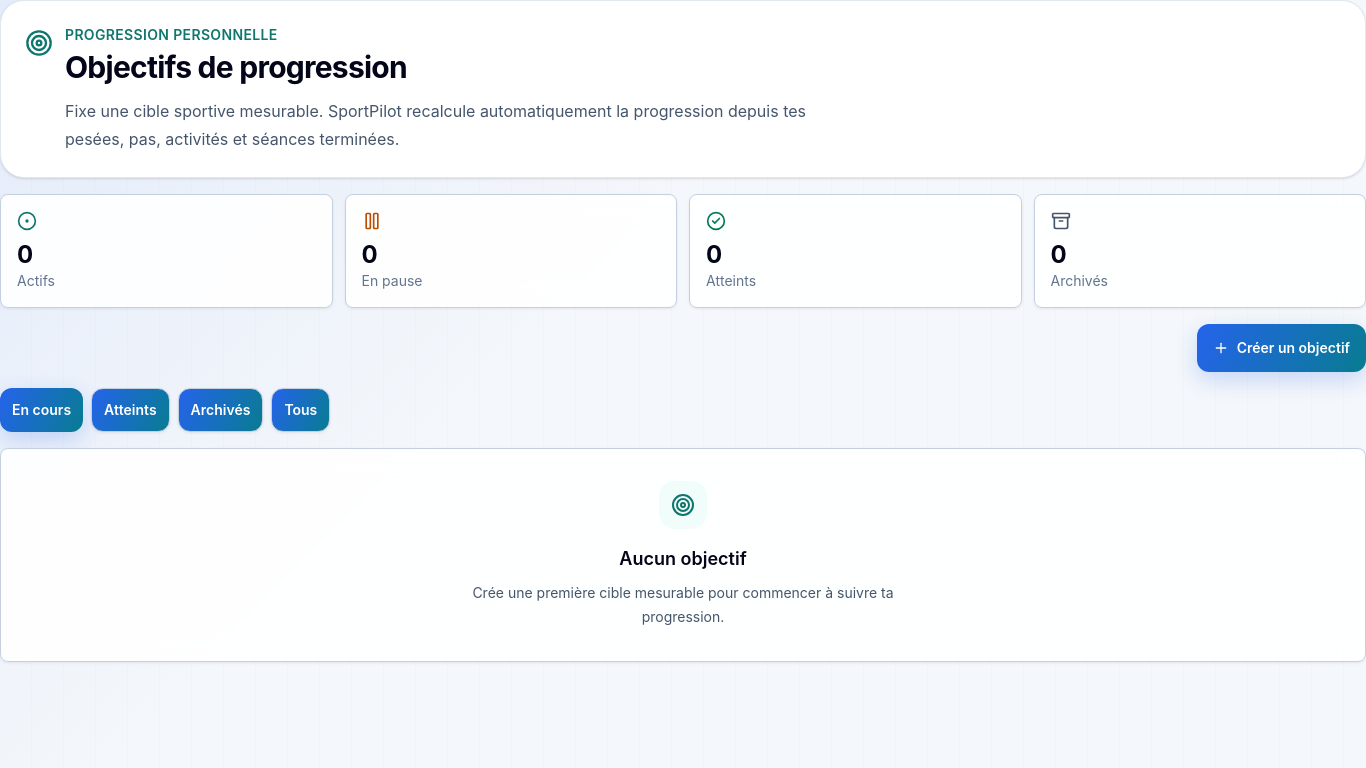
Test case: GoalsPage › distingue le premier usage quand aucun objectif n’existe
The width and height of the screenshot is (1366, 768).
Expected: the field labelled "Type d’objectif" is not shown
Click the button "Créer un objectif". click: click(1281, 348)
box: [1197,324,1365,372]
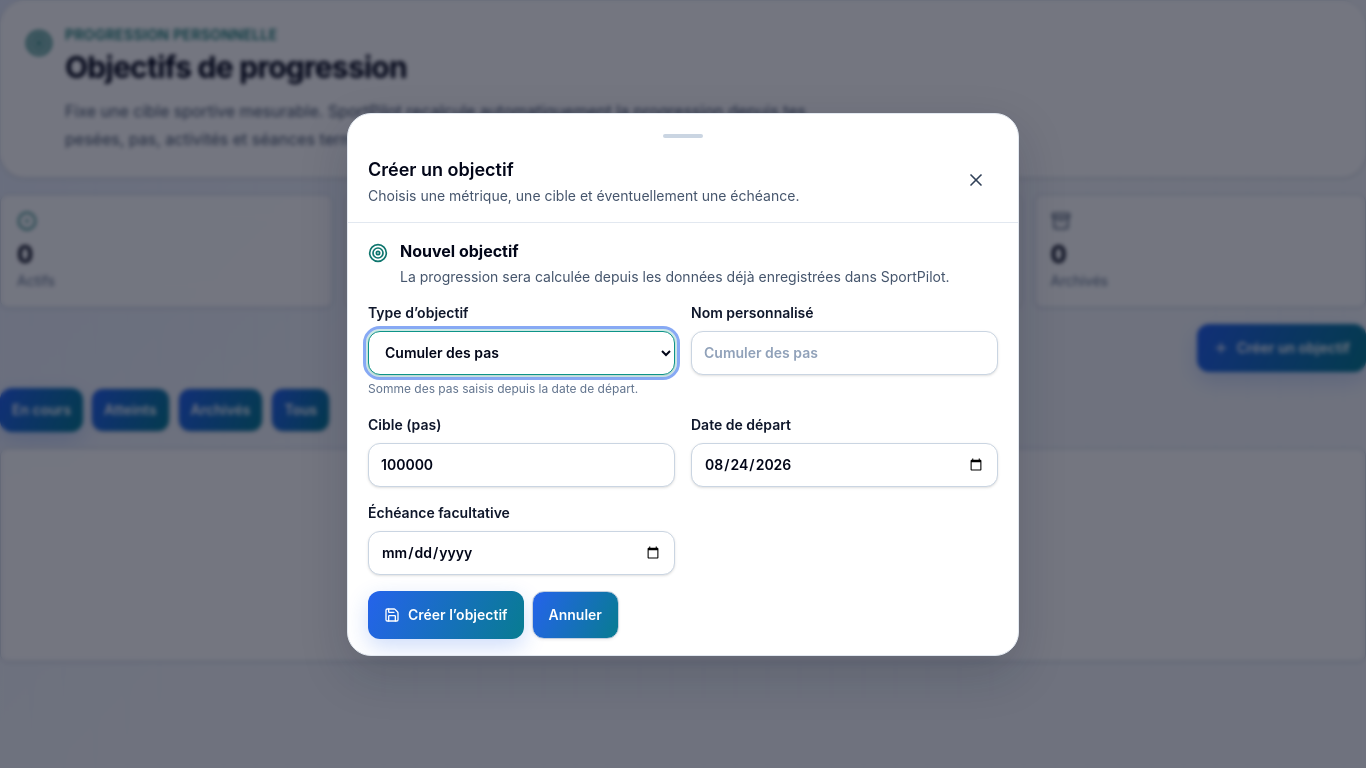
Expected: the dialog "Créer un objectif" is shown, [347,112,1019,656]
Expected: the dropdown labelled "Type d’objectif" shows "Cumuler des pas", [368,330,675,374]
